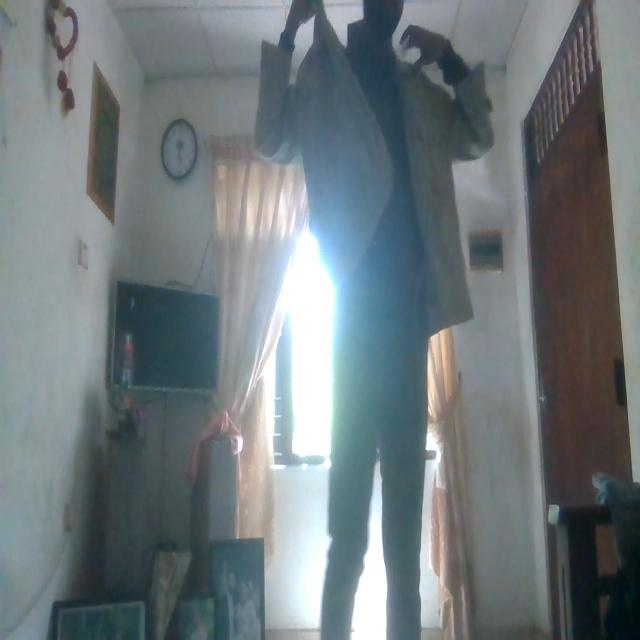Jacket_Wearer: (262, 18, 496, 340)
Person: (259, 0, 496, 631)
